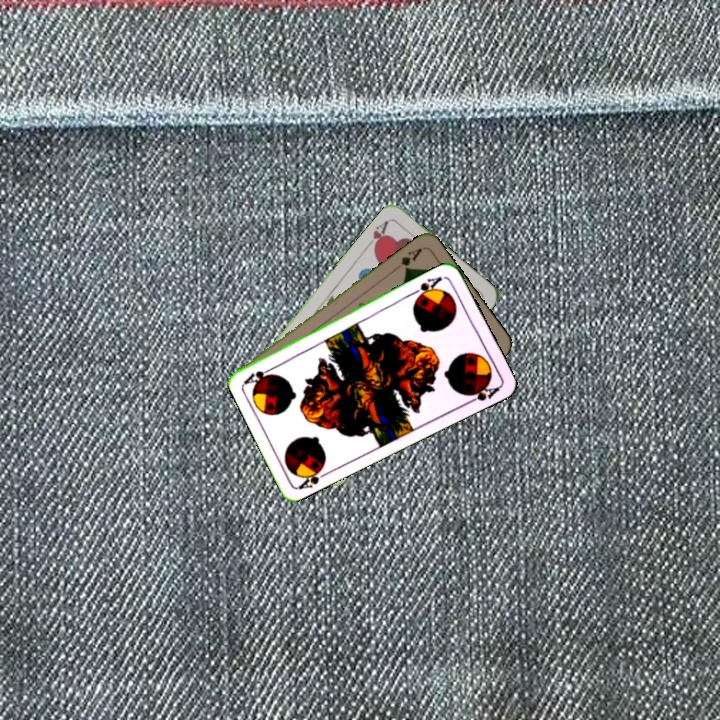GA: (390, 244, 425, 273)
HA: (362, 216, 391, 254)
SA: (295, 461, 333, 492), (409, 272, 447, 302)
